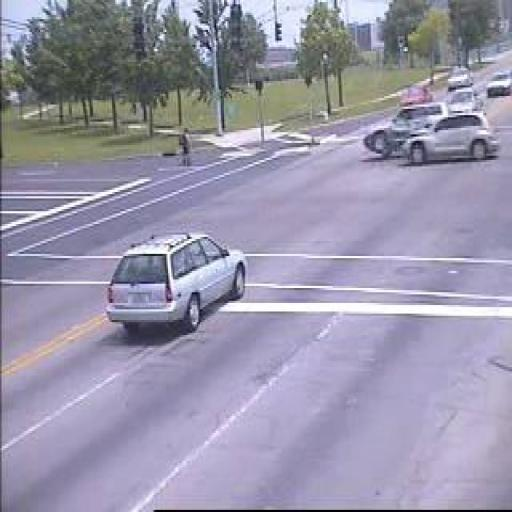Car: (106, 226, 250, 335), (404, 112, 501, 167), (362, 101, 448, 161), (440, 85, 486, 120), (485, 66, 512, 100), (398, 86, 438, 108), (447, 66, 475, 92)
Major Accident: (357, 100, 504, 171)
